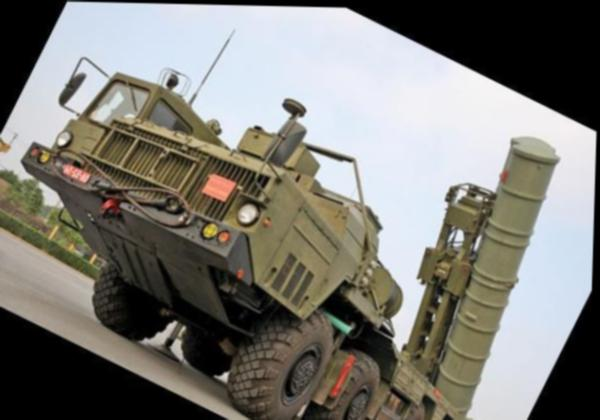License_Plate: (58, 157, 93, 187)
